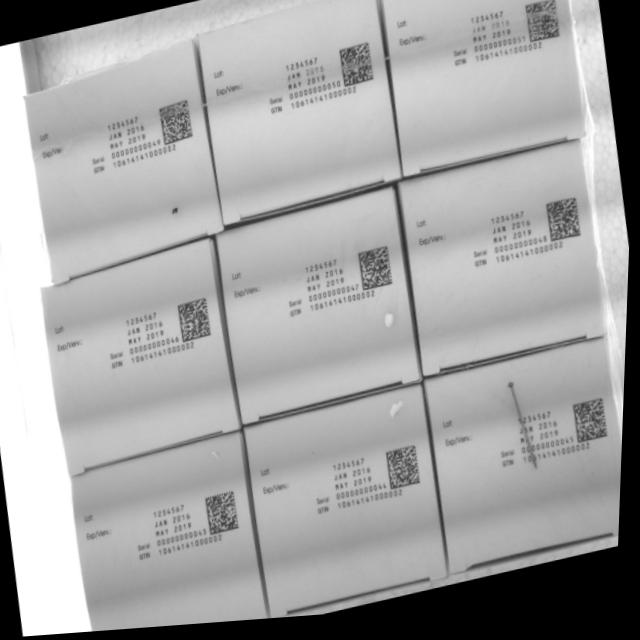datamatrix: (339, 44, 381, 96), (206, 492, 248, 544), (357, 249, 399, 300), (575, 405, 617, 456), (387, 449, 429, 500), (546, 204, 587, 256), (156, 100, 197, 151), (524, 4, 565, 55), (178, 298, 219, 349)
